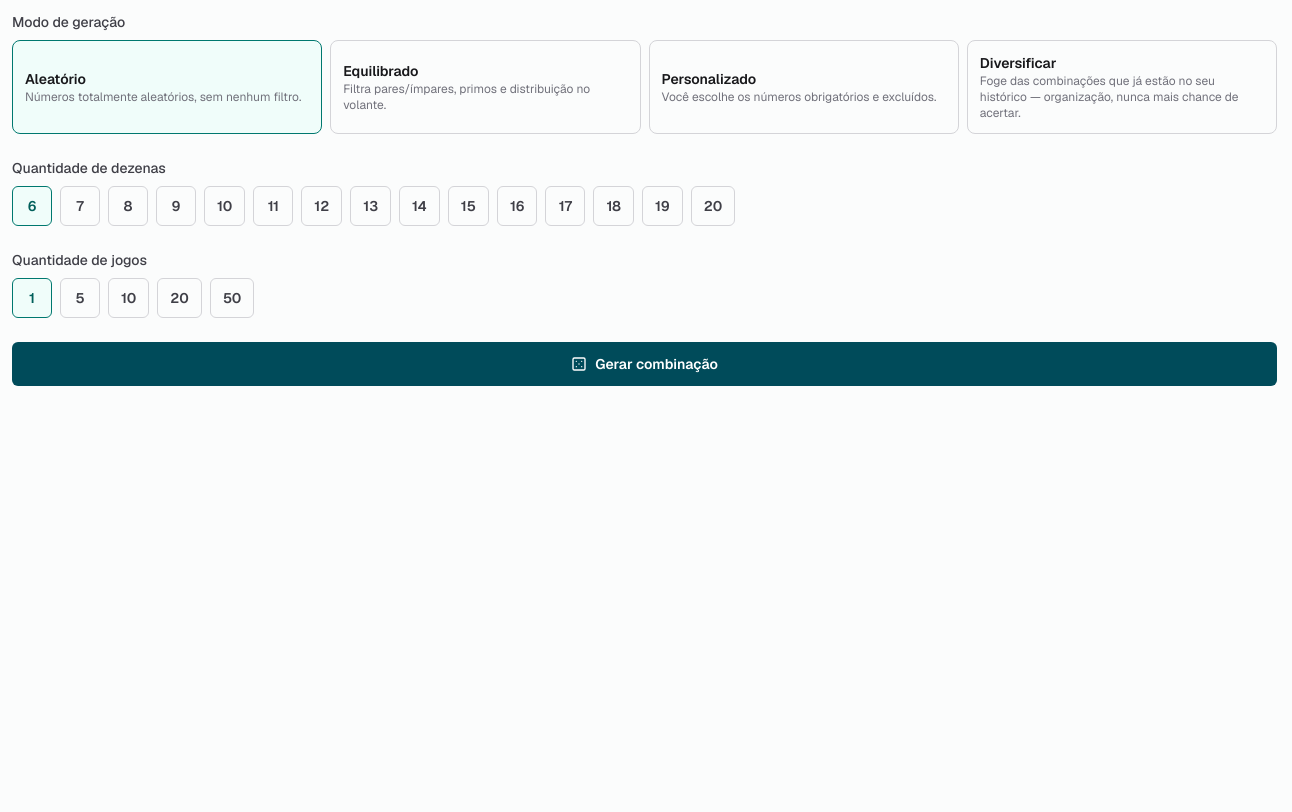
Scenario: MegaSenaGenerator — logado (Fase B) › gera com o modo Diversificar sem quebrar (jogo válido de 6 dezenas)
This screenshot has width=1292, height=812.
Click the button "Diversificar".
click(1122, 87)  # box [967,40,1277,134]
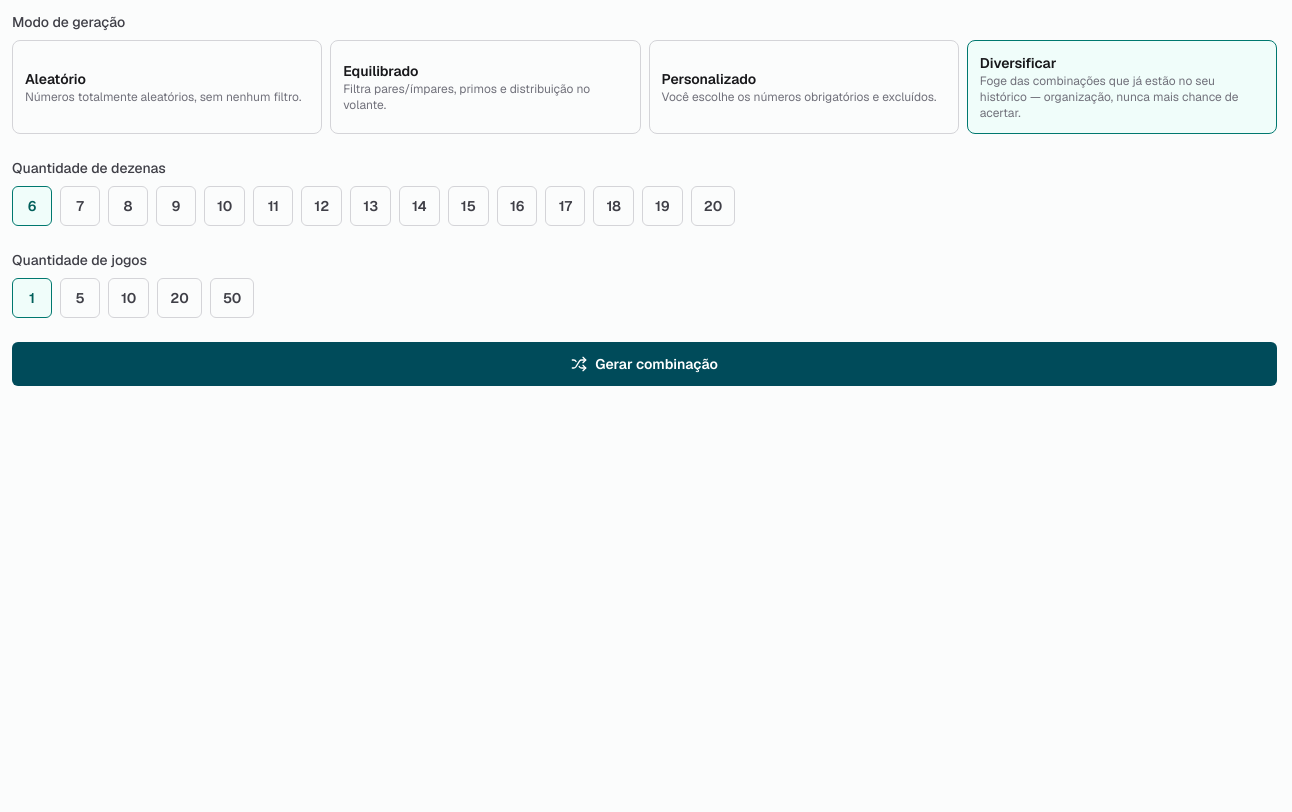
Click the button "Gerar combinação".
click(644, 364)  # box [12,342,1277,386]
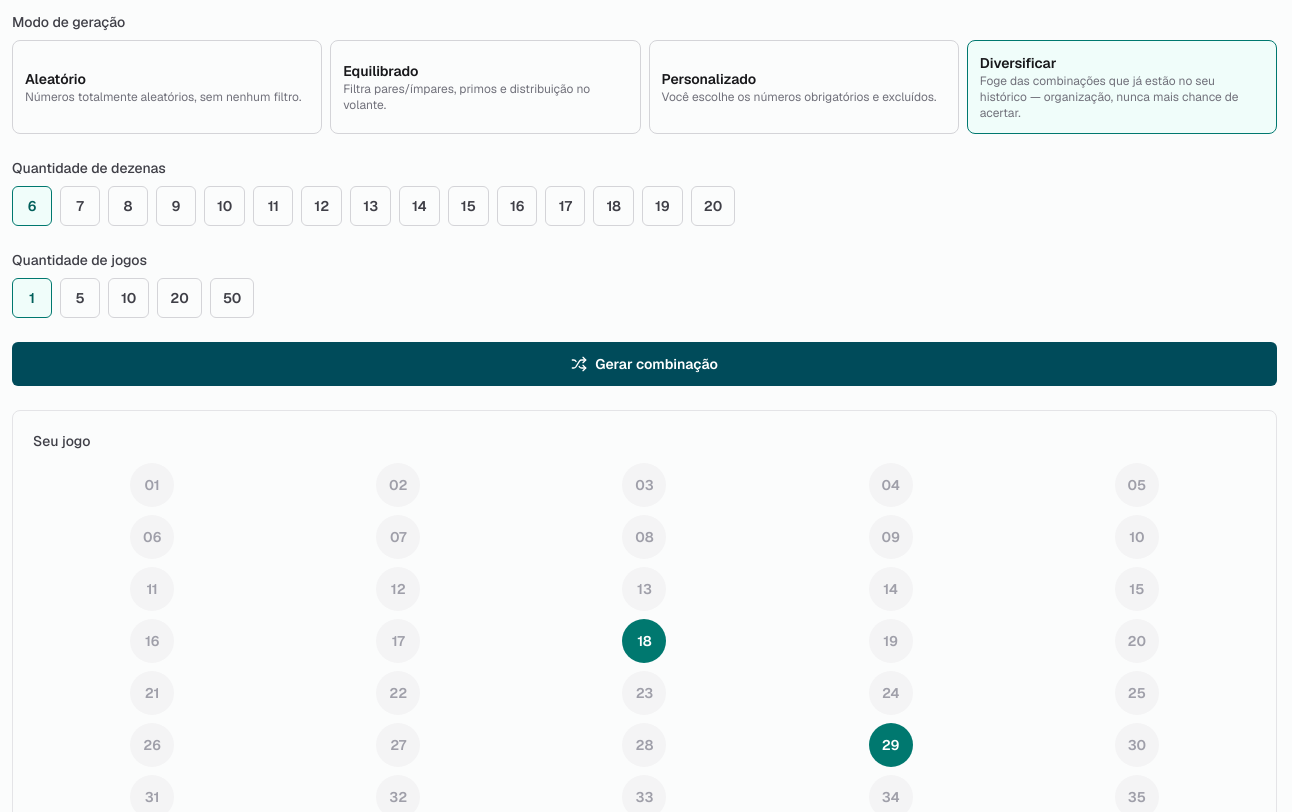
Check: the text "Seu jogo" is shown, box [33,432,90,450]
